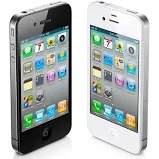iphone: (6, 1, 77, 155), (87, 1, 149, 156)
iphone4: (6, 1, 77, 155), (87, 1, 149, 156)
